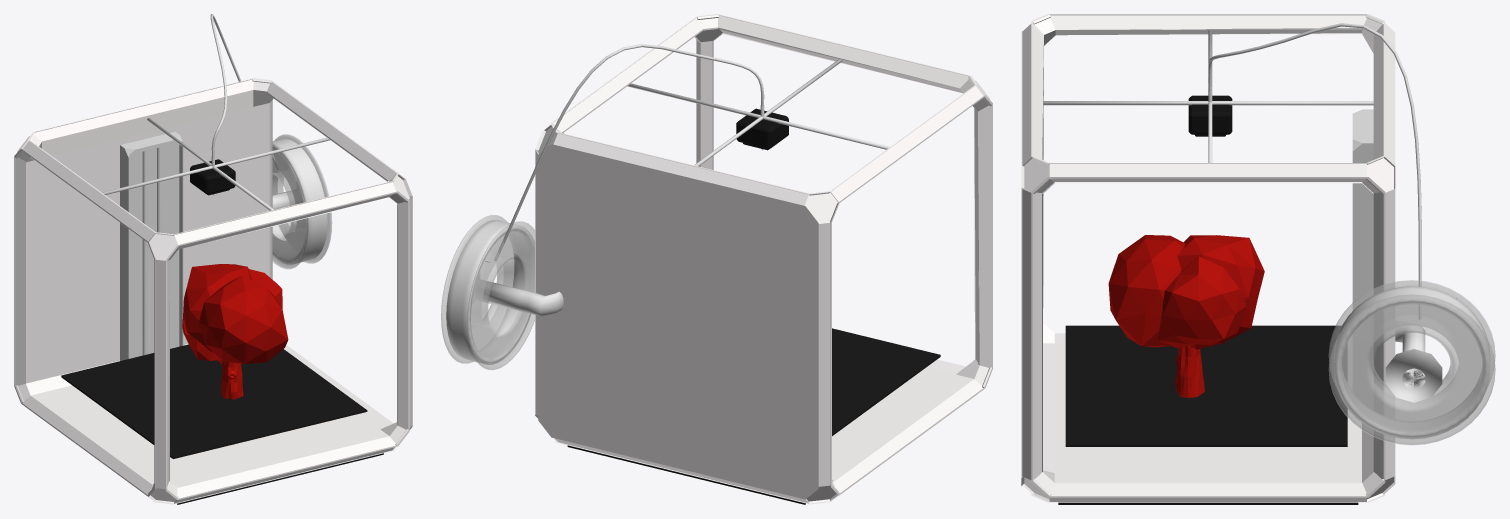
Rendered from 3d printerfor Ar.fbx.
3 renders of one model, left to right at view 1: azimuth 30°, elevation 25°; view 2: azimuth 150°, elevation 25°; view 3: azimuth 270°, elevation 25°, orthographic. The views are drawn at different scales.
Parts seen in each view (by area): view 1: Cube, Cube.001, Cube.002, Icosphere, Filament, Filament.001, Cylinder, Cube.005, Cylinder.003, Cylinder.013, Cylinder.002, Cylinder.011; view 2: Cube, Filament, Filament.001, Cube.001, Cylinder.011, Cube.005, Cylinder.003, Cylinder.002; view 3: Cube, Cube.001, Filament.001, Icosphere, Filament, Cube.002, Cylinder.011, Cylinder.002, Cube.005, Cylinder.013, Stoppers.
Part boxes in pixels (box(x1,y1,x2,y2)): Cube: box(14, 78, 412, 504); Cube.001: box(61, 344, 367, 458); Cube.002: box(120, 131, 183, 360); Icosphere: box(182, 264, 288, 363); Filament: box(210, 14, 327, 264); Filament.001: box(272, 134, 332, 269); Cylinder: box(142, 150, 147, 355); Cube.005: box(190, 159, 235, 195); Cylinder.003: box(102, 137, 330, 194); Cylinder.013: box(217, 360, 243, 399); Cylinder.002: box(147, 118, 273, 210); Cylinder.011: box(272, 182, 302, 209); Cube: box(535, 14, 992, 504); Filament: box(446, 44, 764, 364); Filament.001: box(441, 215, 534, 370); Cube.001: box(832, 328, 940, 435); Cylinder.011: box(472, 274, 563, 316); Cube.005: box(736, 108, 788, 150); Cylinder.003: box(627, 83, 890, 149); Cylinder.002: box(694, 59, 842, 166); Cube: box(1021, 14, 1395, 502); Cube.001: box(1065, 325, 1347, 446); Filament.001: box(1328, 280, 1495, 445); Icosphere: box(1108, 235, 1264, 349); Filament: box(1208, 23, 1489, 438); Cube.002: box(1352, 109, 1373, 409); Cylinder.011: box(1385, 321, 1442, 402); Cylinder.002: box(1043, 101, 1373, 105); Cube.005: box(1188, 95, 1232, 136); Cylinder.013: box(1175, 345, 1204, 397); Stoppers: box(1058, 502, 1358, 504).
Bounding box in the file's own units: 241 × 263 × 254.
